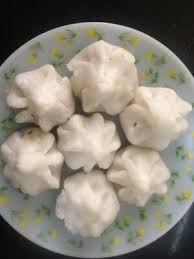modak: (63, 38, 139, 113), (56, 173, 124, 236), (113, 143, 174, 212), (126, 85, 192, 148), (8, 67, 76, 128), (59, 113, 125, 171), (5, 128, 62, 195)
